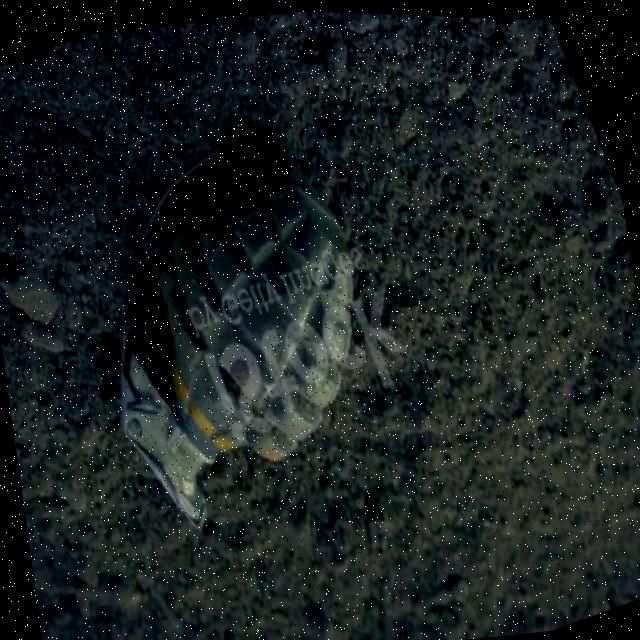grenade: (22, 89, 446, 569)
